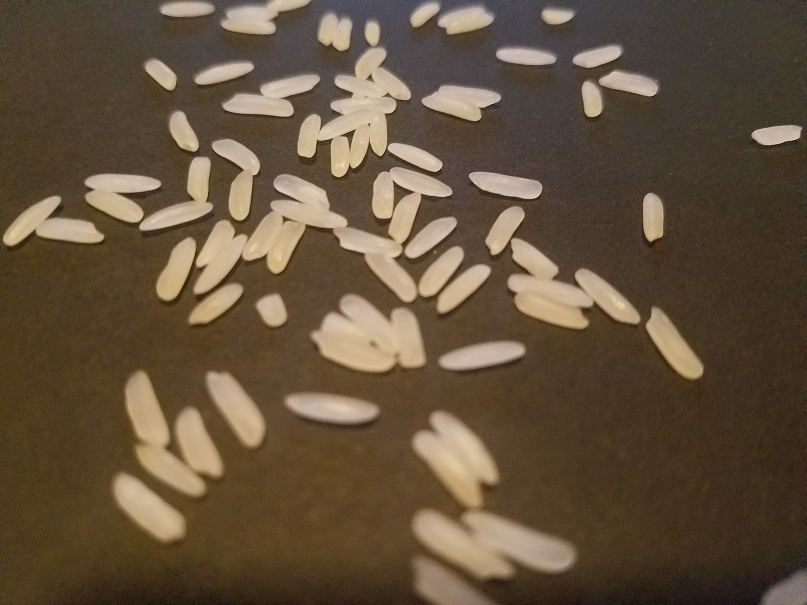egg: (458, 508, 579, 576), (409, 510, 518, 585), (407, 429, 492, 512), (110, 469, 191, 544), (428, 408, 500, 489), (643, 304, 708, 385), (202, 371, 265, 446), (406, 554, 497, 605), (131, 442, 211, 500), (573, 265, 646, 328), (170, 404, 226, 481), (300, 326, 398, 370), (337, 292, 401, 354), (123, 369, 171, 449), (284, 387, 382, 426), (507, 270, 597, 309), (437, 335, 529, 373), (193, 233, 250, 294), (431, 262, 492, 319), (3, 191, 62, 246), (364, 249, 420, 303), (155, 237, 198, 306), (419, 242, 469, 300), (513, 292, 592, 328), (137, 198, 216, 231), (325, 227, 405, 259), (186, 283, 244, 327), (480, 203, 527, 257), (466, 169, 544, 201), (391, 307, 430, 370), (509, 234, 561, 281), (269, 217, 310, 276), (406, 214, 458, 260), (83, 189, 145, 226), (267, 201, 348, 229), (221, 92, 295, 122), (196, 220, 239, 271), (389, 164, 455, 197), (242, 210, 283, 263), (318, 311, 375, 348), (272, 173, 333, 207), (386, 193, 425, 244), (34, 218, 109, 244), (420, 92, 487, 121), (387, 140, 443, 172), (437, 83, 502, 110), (212, 136, 260, 172), (261, 70, 320, 99), (600, 69, 660, 97), (227, 170, 256, 226), (640, 191, 668, 248), (194, 59, 253, 86), (371, 65, 414, 102), (82, 174, 163, 192), (573, 41, 623, 70), (493, 45, 558, 66), (435, 2, 489, 27), (142, 55, 178, 92), (369, 170, 394, 222), (253, 292, 289, 328), (333, 74, 389, 97), (217, 15, 281, 35), (168, 110, 198, 152), (353, 44, 389, 79), (187, 154, 211, 206), (296, 112, 320, 162), (448, 13, 496, 37), (155, 1, 219, 19), (750, 124, 803, 145), (408, 1, 440, 32), (580, 79, 604, 120), (349, 124, 370, 170), (330, 132, 350, 176), (334, 14, 356, 54), (329, 99, 396, 112), (316, 8, 336, 50), (225, 4, 283, 18), (371, 113, 388, 156), (539, 6, 575, 26), (364, 17, 383, 48), (266, 1, 309, 11)
